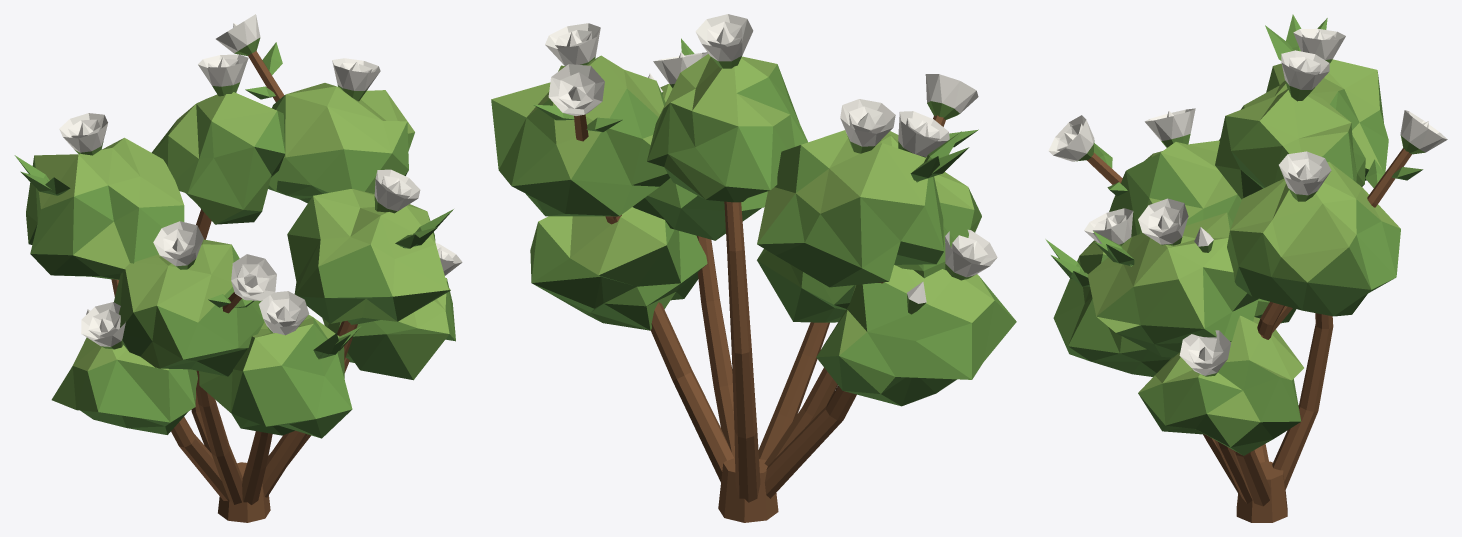
Rendered from FMS_Garden_Rose_Bush_White.fbx.
The picture shows the model from 3 angles, left to right: view 1: azimuth 30°, elevation 25°; view 2: azimuth 150°, elevation 25°; view 3: azimuth 270°, elevation 25°; orthographic projection. The views are drawn at different scales.
Parts seen in each view (by area): view 1: FMS_Garden_Rose_Bush_White_Body; view 2: FMS_Garden_Rose_Bush_White_Body; view 3: FMS_Garden_Rose_Bush_White_Body.
Boxes of the visible parts, bbox=[...] form: FMS_Garden_Rose_Bush_White_Body: bbox=[14, 14, 462, 522]; FMS_Garden_Rose_Bush_White_Body: bbox=[491, 14, 1016, 522]; FMS_Garden_Rose_Bush_White_Body: bbox=[1045, 14, 1447, 522].
Size of the model in its own units: 1.05 by 1.09 by 0.878.
